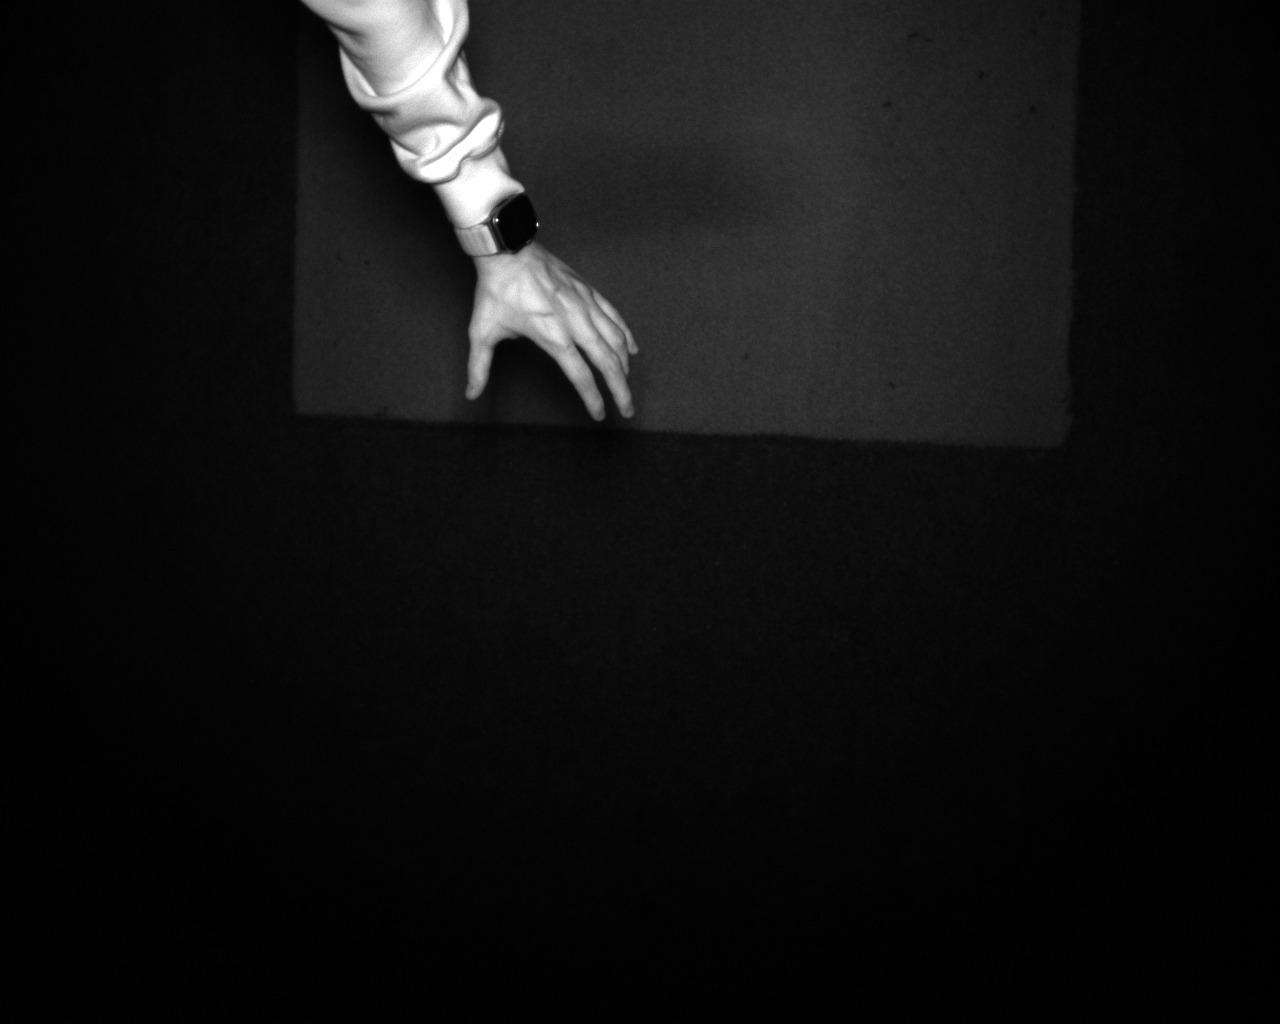hand: (460, 250, 645, 428)
